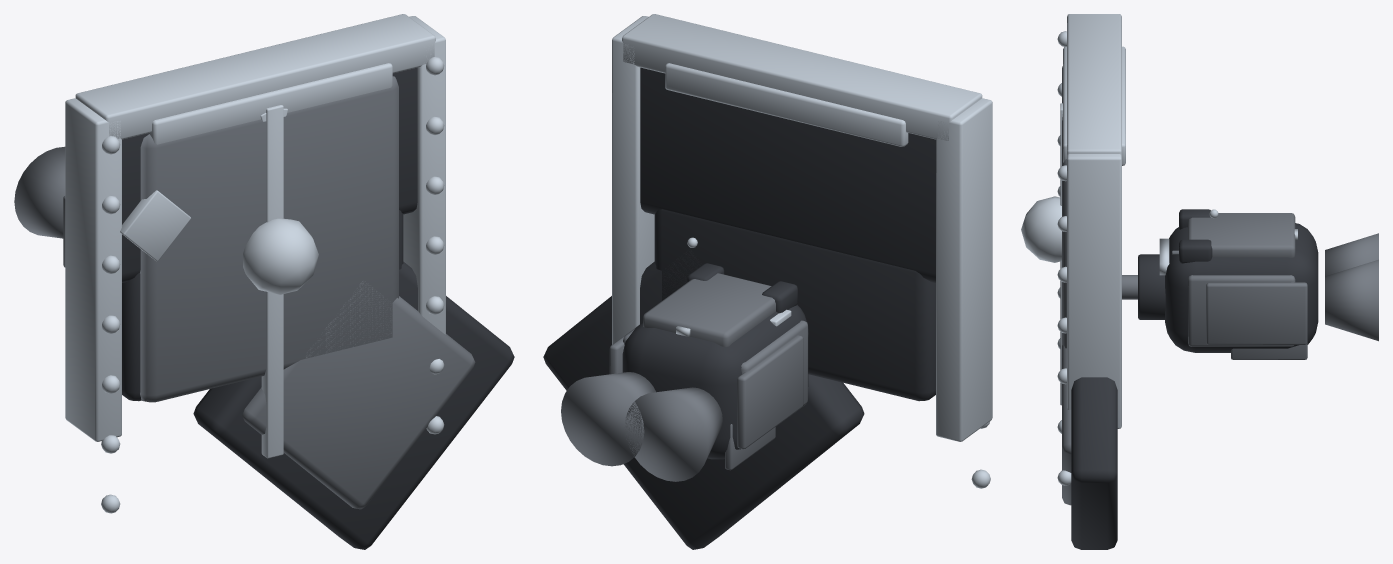
Rendered from weapon_drone_bulwark_plating.glb.
The picture shows the model from 3 angles, left to right: view 1: azimuth 30°, elevation 25°; view 2: azimuth 150°, elevation 25°; view 3: azimuth 270°, elevation 25°; orthographic projection. The views are drawn at different scales.
Parts seen in each view (by area): view 1: weapon_drone_bulwark_plating; view 2: weapon_drone_bulwark_plating; view 3: weapon_drone_bulwark_plating.
Boxes of the visible parts, x1,y1,x2,y2 form: weapon_drone_bulwark_plating: (14, 14, 514, 549); weapon_drone_bulwark_plating: (543, 14, 992, 549); weapon_drone_bulwark_plating: (1021, 14, 1378, 549).
Size of the model in its own units: 2.01 by 2.27 by 1.73.
